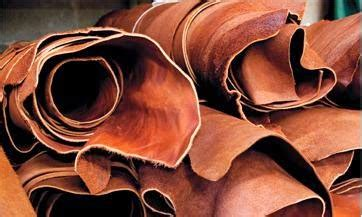cuero: (1, 1, 362, 217)
